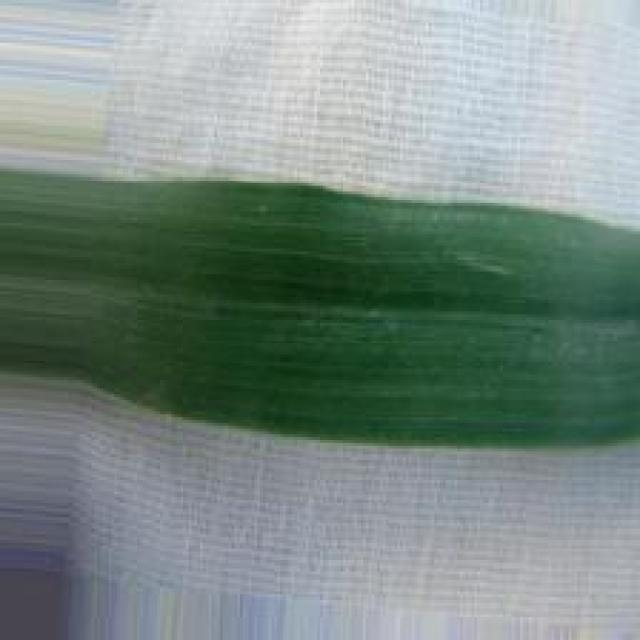Healthy: (0, 177, 640, 449)
